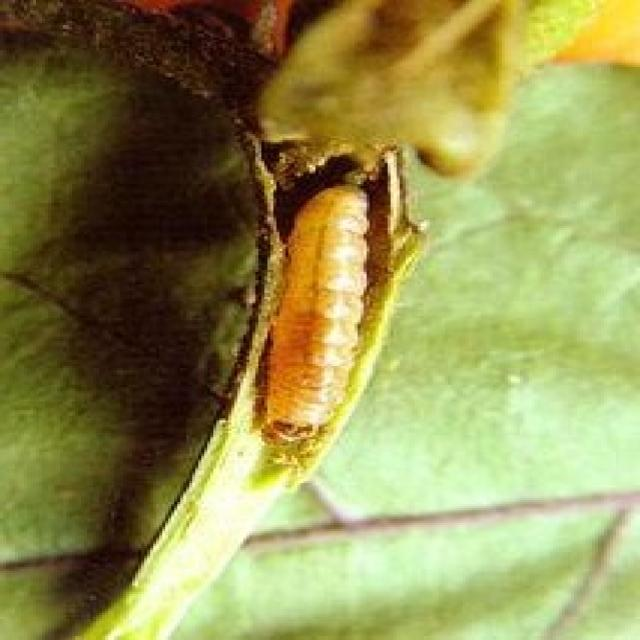peach borer: (257, 180, 383, 462)
